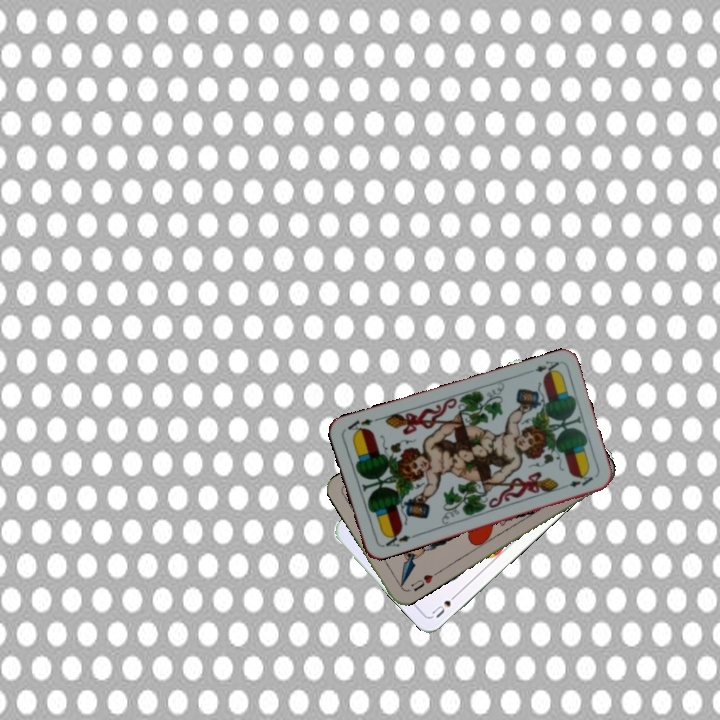EA: (378, 528, 418, 550), (523, 357, 562, 379)
HU: (407, 568, 440, 594)
SU: (428, 588, 461, 621)
